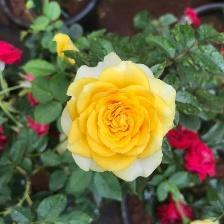rose: (67, 60, 177, 177)
